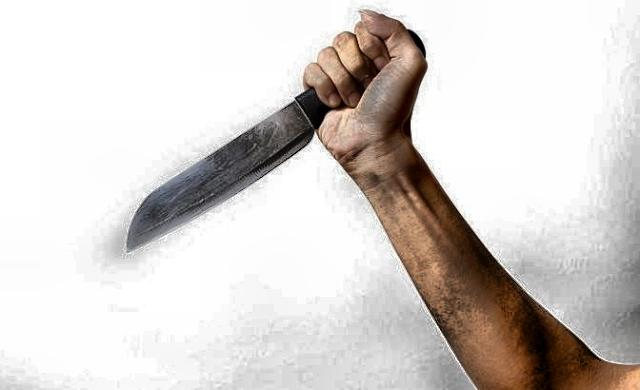knife: (120, 34, 382, 262)
